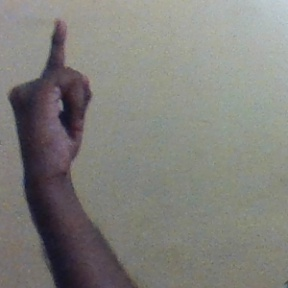I: (11, 17, 96, 181)
